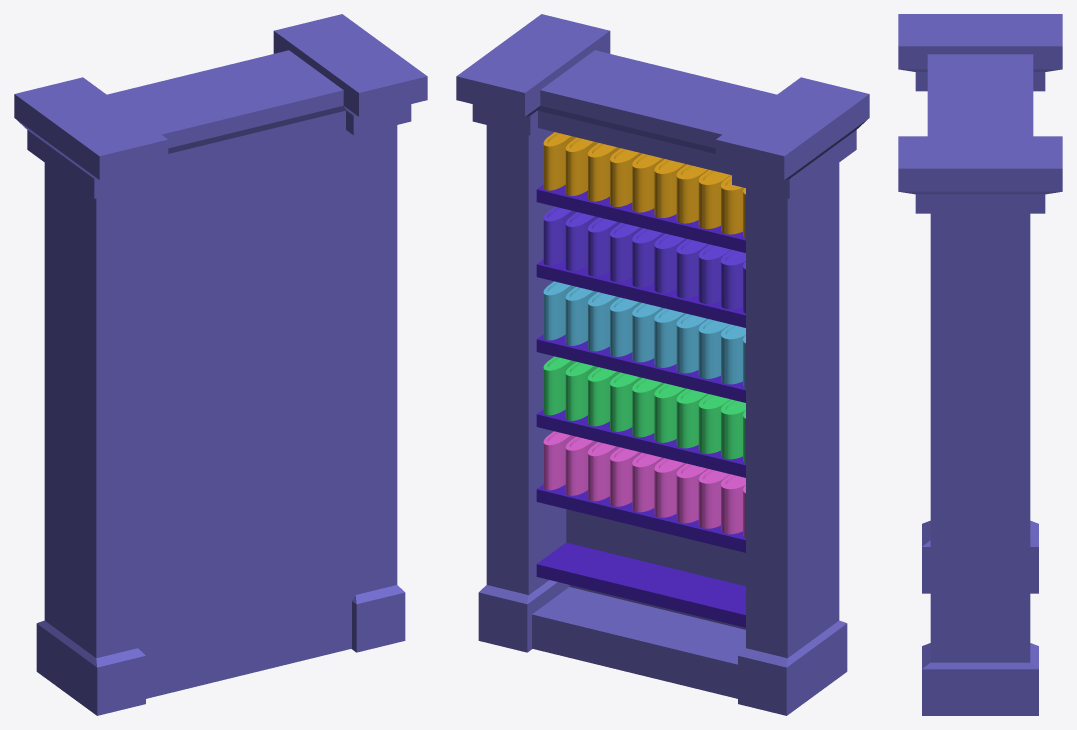
The model's file is Bookshelf.fbx.
3 renders of one model, left to right at view 1: azimuth 30°, elevation 25°; view 2: azimuth 150°, elevation 25°; view 3: azimuth 270°, elevation 25°, orthographic. The views are drawn at different scales.
Parts seen in each view (by area): view 1: Cube; view 2: Cube, Cube.003, Cube.002, Cube.005, Cube.004, Cube.006, Cube.007; view 3: Cube.
Boxes of the visible parts, bbox=[...] form: Cube: bbox=[14, 14, 427, 715]; Cube: bbox=[456, 14, 869, 715]; Cube.003: bbox=[536, 184, 745, 627]; Cube.002: bbox=[543, 431, 745, 538]; Cube.005: bbox=[543, 281, 745, 388]; Cube.004: bbox=[543, 356, 745, 463]; Cube.006: bbox=[543, 206, 745, 313]; Cube.007: bbox=[543, 132, 745, 238]; Cube: bbox=[898, 14, 1062, 715].
Size of the model in its own units: 1575 by 2621 by 708.
